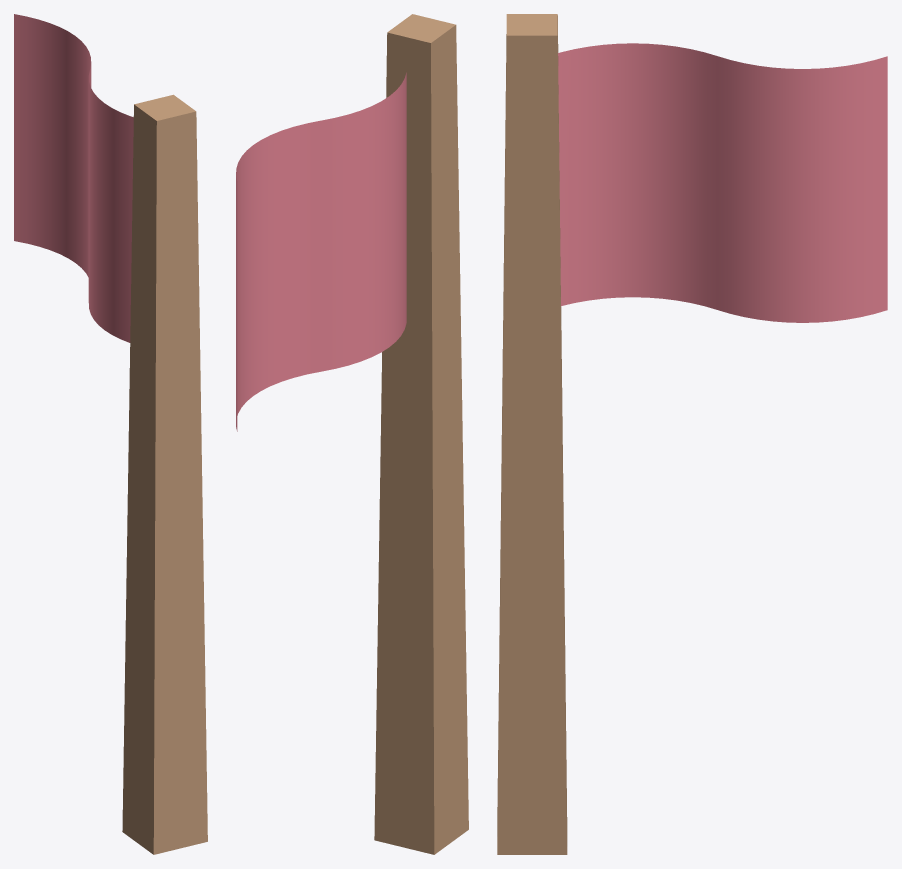
The model's file is flag.glb.
3 views of the same model, side by side, from view 1: azimuth 30°, elevation 25°; view 2: azimuth 150°, elevation 25°; view 3: azimuth 270°, elevation 25° (orthographic). The views are drawn at different scales.
Parts seen in each view (by area): view 1: flag(Clone); view 2: flag(Clone); view 3: flag(Clone).
Boxes of the visible parts, x1,y1,x2,y2 form: flag(Clone): (14,14,207,854); flag(Clone): (236,14,468,854); flag(Clone): (497,14,887,854).
Bounding box in the file's own units: 0.0754 × 0.9 × 0.3905.
